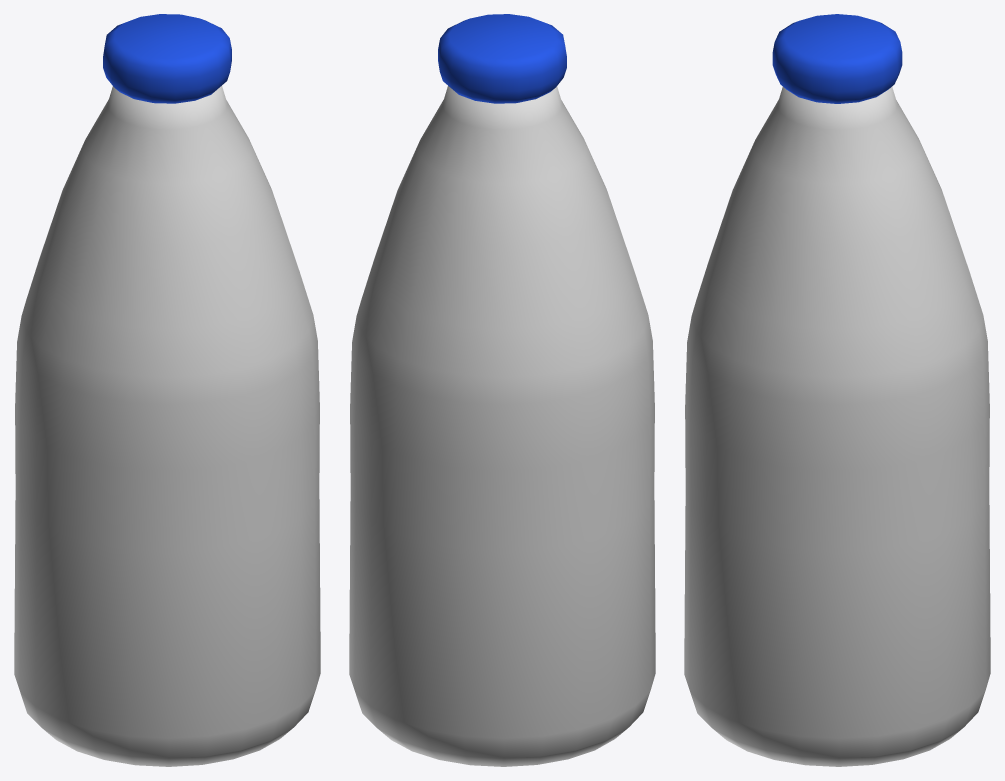
The model's file is Milk.glb.
3 views of the same model, side by side, from view 1: azimuth 30°, elevation 25°; view 2: azimuth 150°, elevation 25°; view 3: azimuth 270°, elevation 25° (orthographic).
Visible parts, largest first — view 1: Bottle, Cap; view 2: Bottle, Cap; view 3: Bottle, Cap.
Part boxes in pixels (x1=…): Bottle: x1=14, y1=86, x2=320, y2=766; Cap: x1=103, y1=14, x2=231, y2=103; Bottle: x1=349, y1=86, x2=655, y2=766; Cap: x1=438, y1=14, x2=566, y2=103; Bottle: x1=684, y1=86, x2=990, y2=766; Cap: x1=772, y1=14, x2=902, y2=103.
Size of the model in its own units: 0.6262 by 1.53 by 0.6262.
